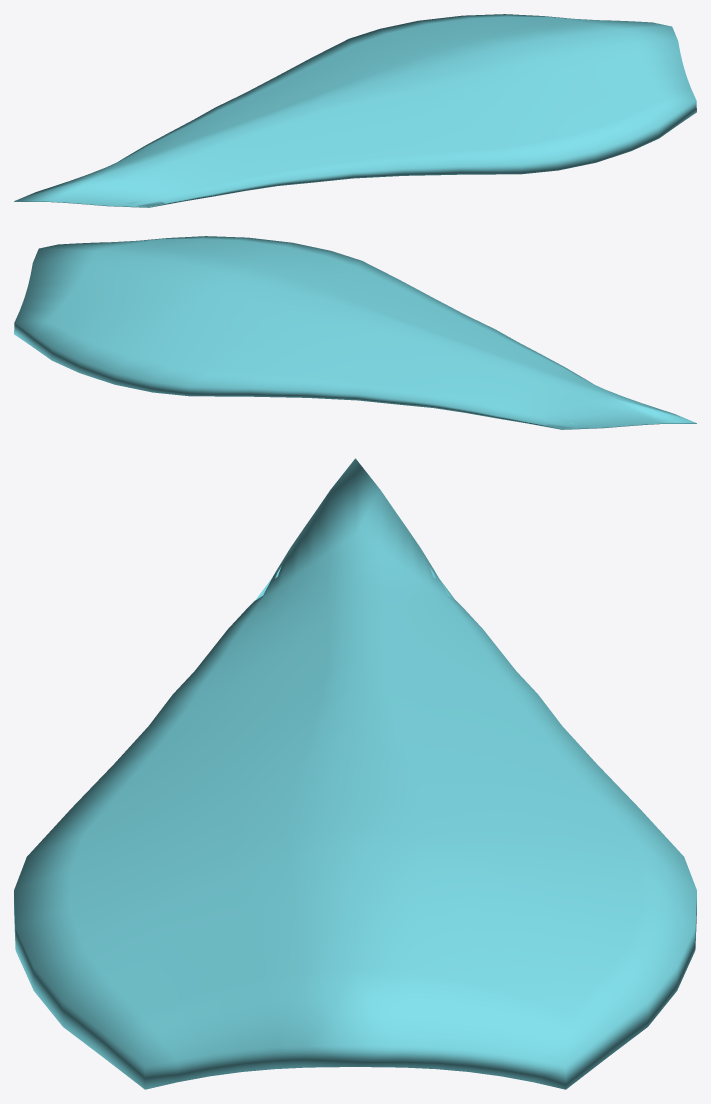
The model's file is shild.glb.
3 renders of one model, top to bottom at view 1: azimuth 30°, elevation 25°; view 2: azimuth 150°, elevation 25°; view 3: azimuth 270°, elevation 25°, orthographic. The views are drawn at different scales.
Parts seen in each view (by area): view 1: shild; view 2: shild; view 3: shild.
Part boxes in pixels (x1,y1,x2,y2): shild: (14,14,696,207); shild: (14,236,696,429); shild: (14,458,696,1089).
Bounding box in the file's own units: 1.12 × 0.1363 × 0.5284.
